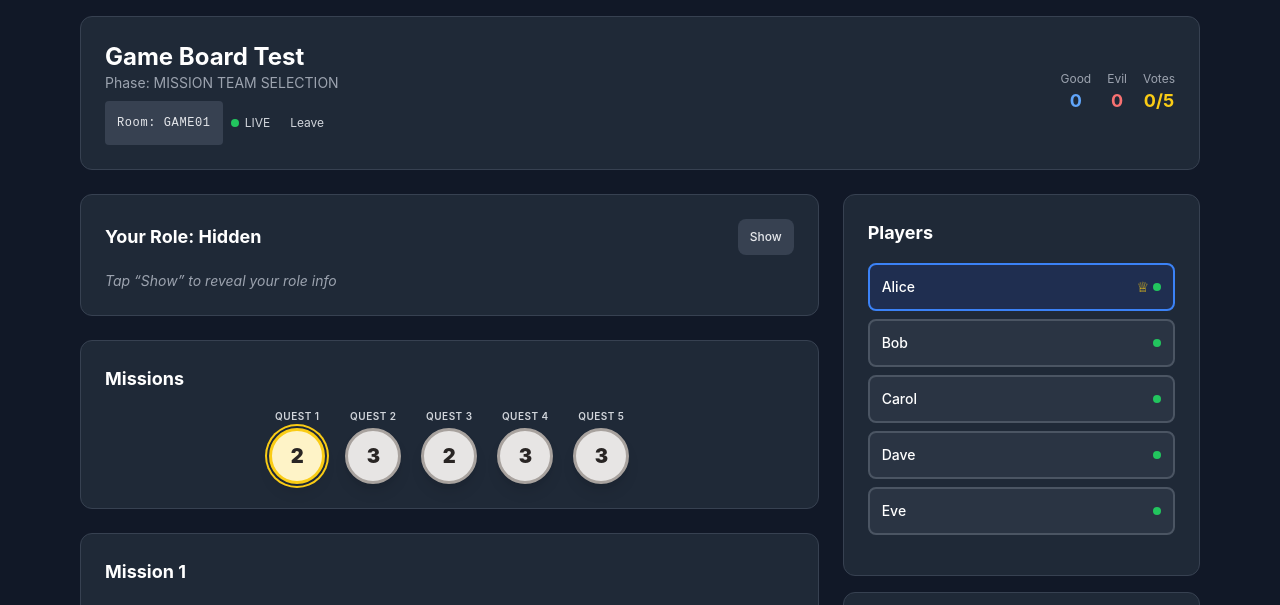
Test: GameBoard › role info display › hides role info again when Hide button is clicked
Click the button "Show". click: click(766, 237)
box: [738,219,794,255]
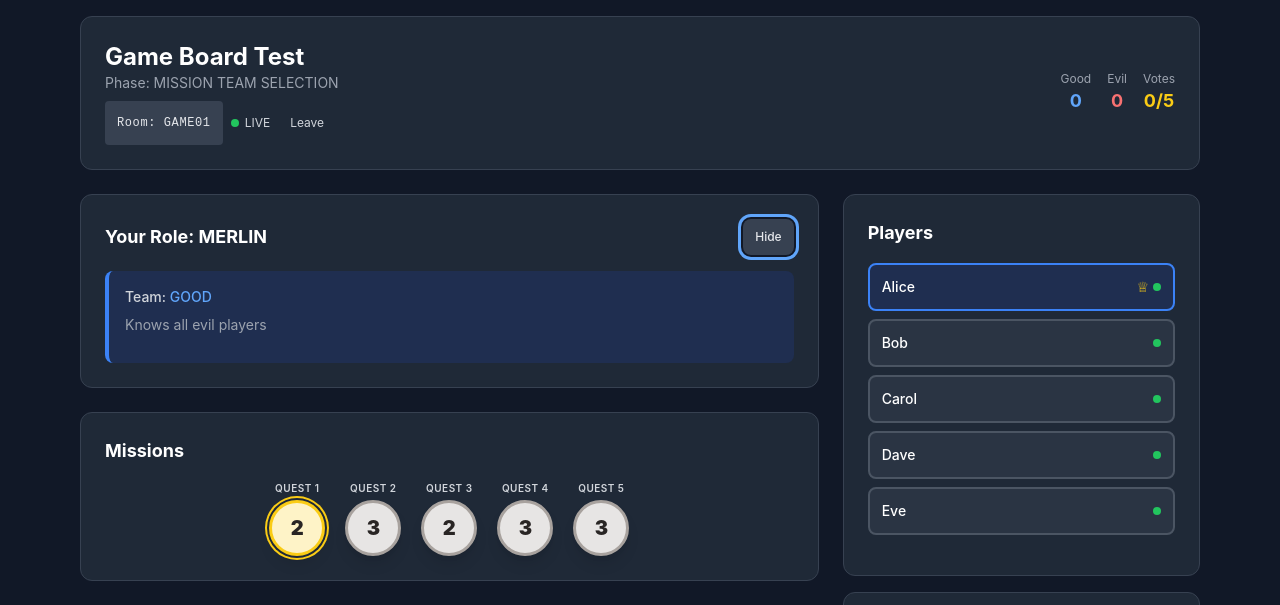
Expected: the heading "Your Role: MERLIN" is shown, [105,223,267,251]
Click the button "Hide". click: click(768, 237)
box: [743,219,794,255]
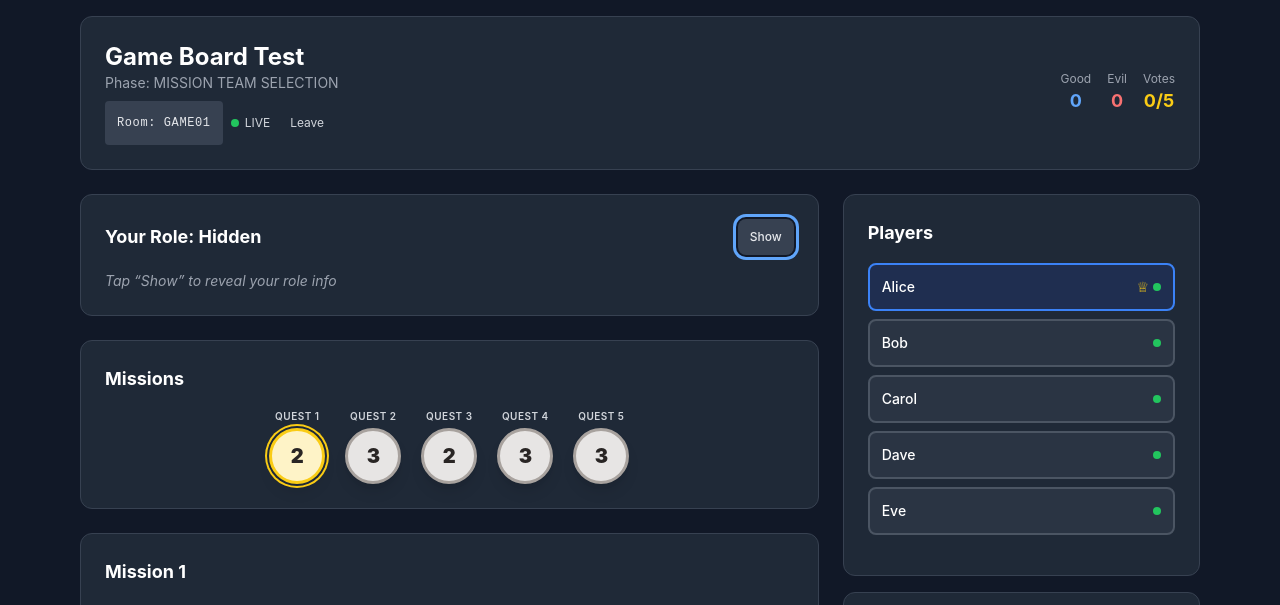
Expected: the heading "Your Role: Hidden" is shown, [105,223,262,251]
Expected: the text "Knows all evil players" is gone
